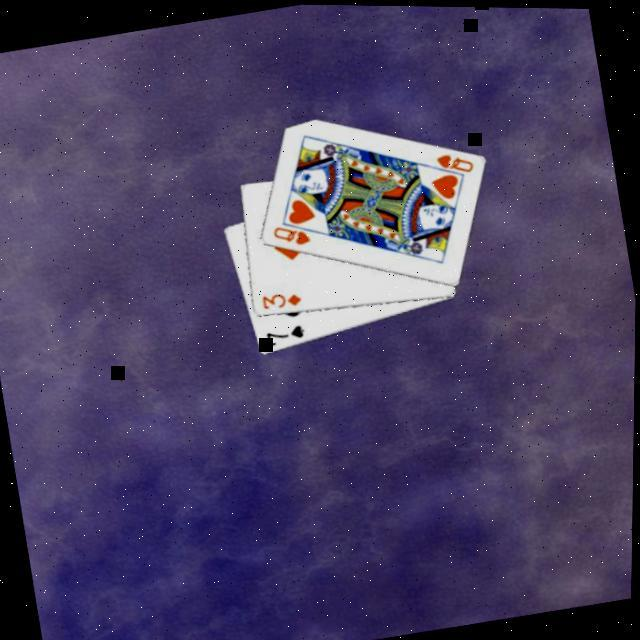3D: (258, 286, 304, 314)
7S: (262, 320, 308, 350)
QH: (423, 146, 477, 184), (268, 218, 314, 253)
